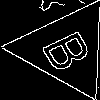B: (40, 24, 100, 75)
